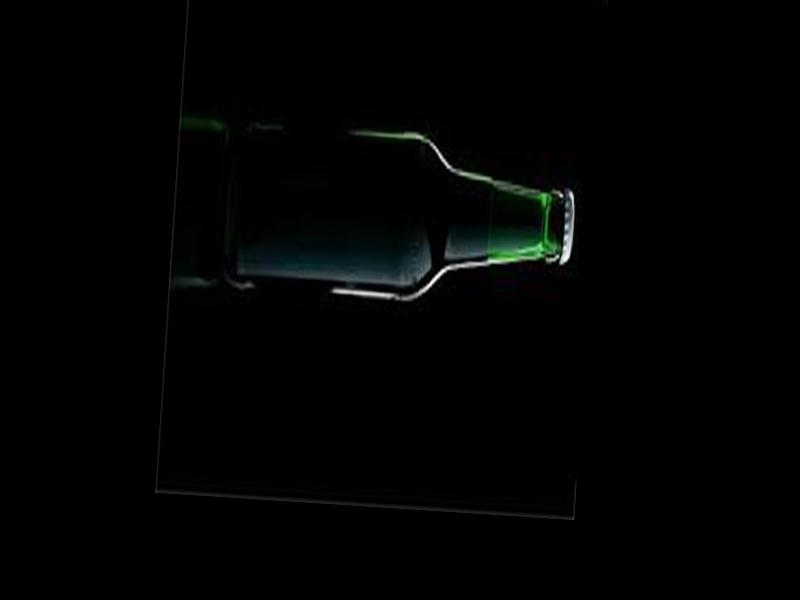Beer: (227, 121, 580, 317)
